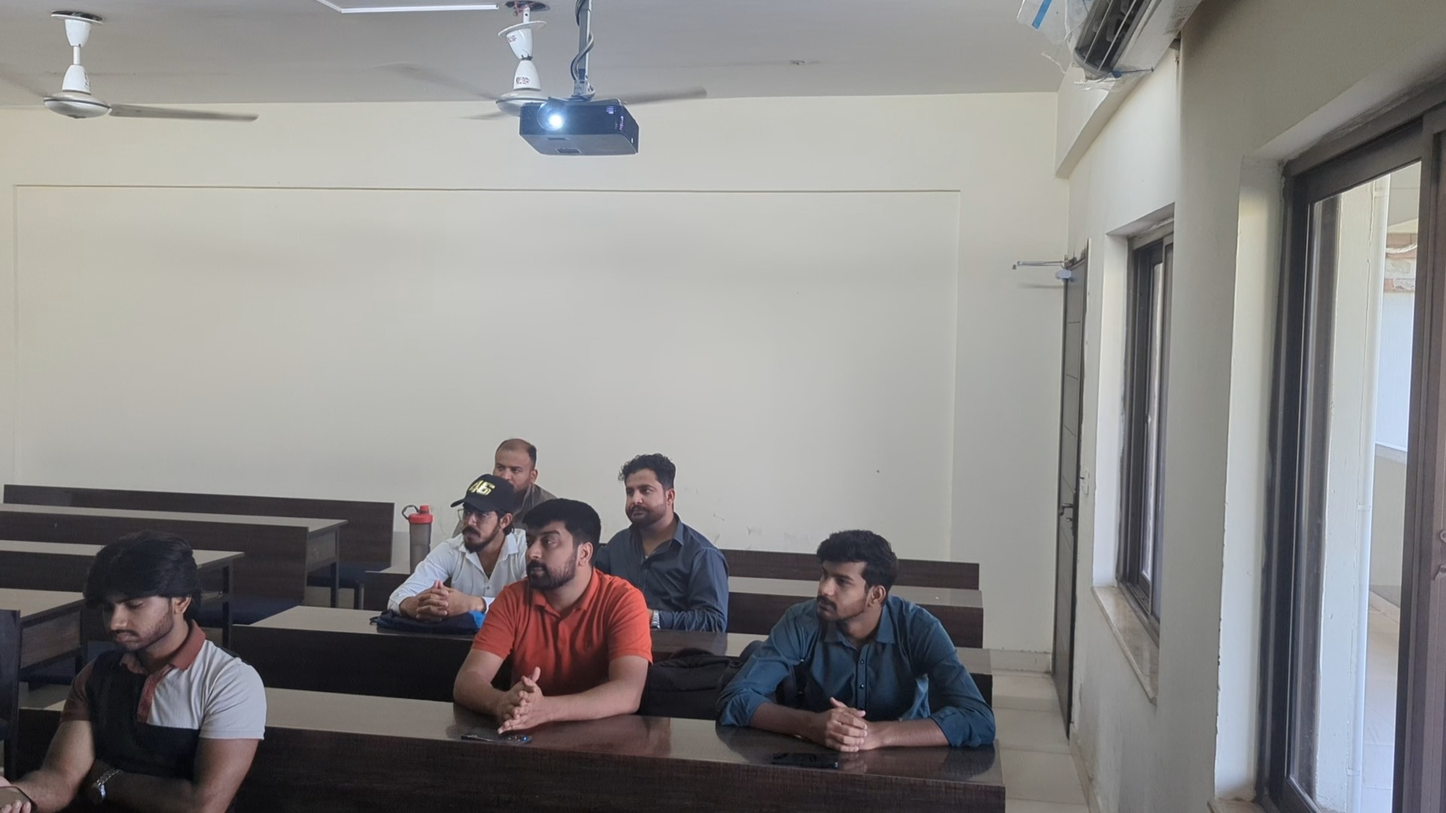look_forward: (731, 533, 990, 757), (466, 497, 651, 729), (618, 446, 733, 629), (389, 470, 518, 617)
using_device: (0, 526, 266, 813)
